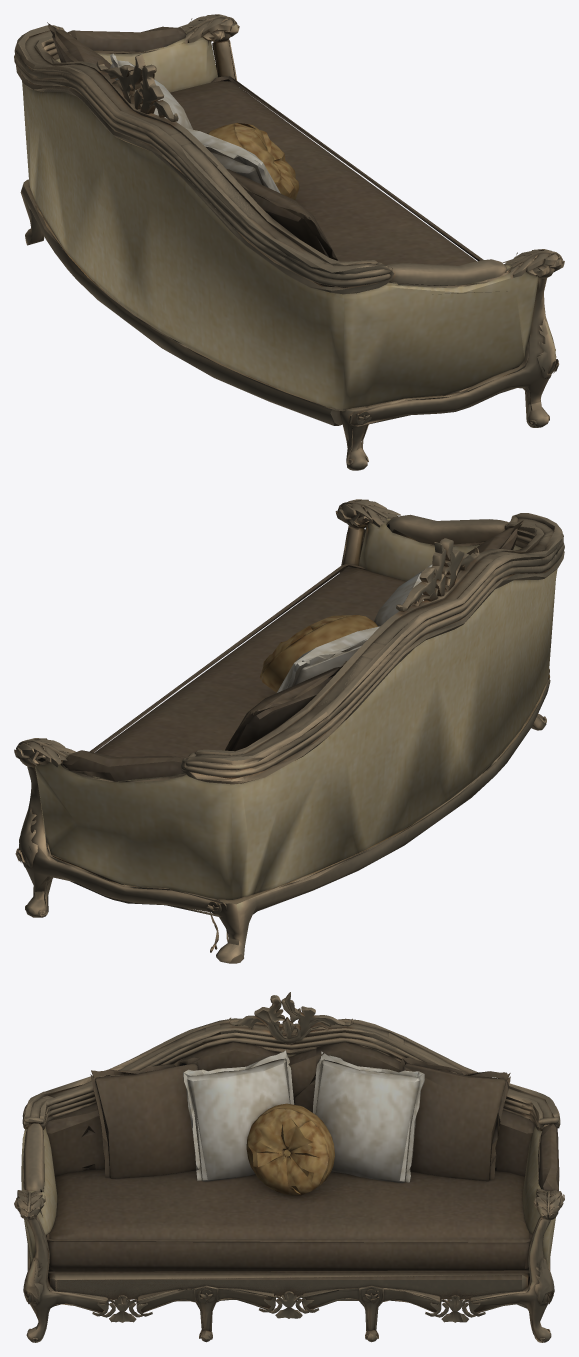
The model's file is Three_Seat_Multi_person_sofa_d62be2d8-a09a-5045-a75b-d01fe795db91.glb.
3 views of the same model, one above another, from view 1: azimuth 30°, elevation 25°; view 2: azimuth 150°, elevation 25°; view 3: azimuth 270°, elevation 25° (orthographic). The views are drawn at different scales.
Parts seen in each view (by area): view 1: raw_model.obj; view 2: raw_model.obj; view 3: raw_model.obj.
Boxes of the visible parts, box(x1,y1,x2,y2) form: raw_model.obj: box(14, 14, 564, 470); raw_model.obj: box(14, 499, 564, 963); raw_model.obj: box(14, 992, 564, 1342).
Bounding box in the file's own units: 0.9951 × 1.04 × 2.04.
1 material, 1 textured.
